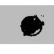correct: (18, 13, 44, 37)
